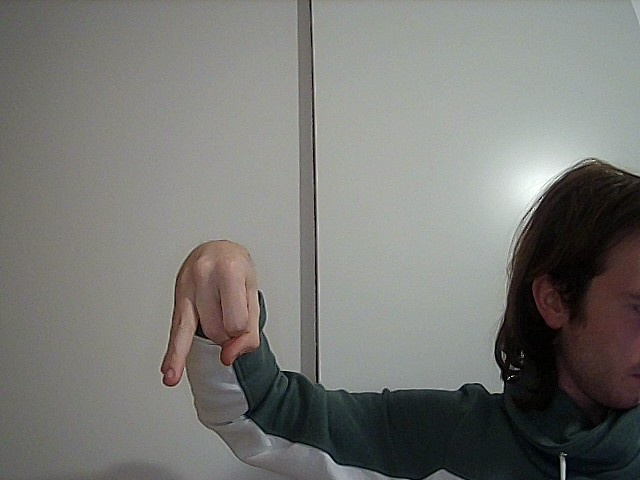n: (144, 229, 269, 397)
